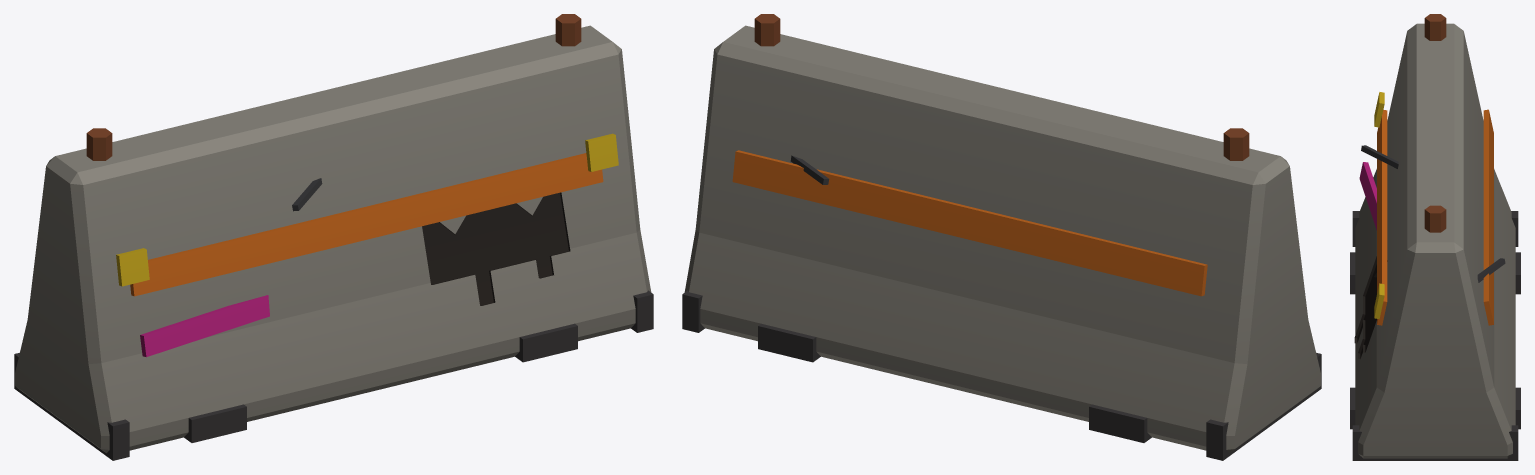
Rendered from c_barrier.glb.
3 renders of one model, left to right at view 1: azimuth 30°, elevation 25°; view 2: azimuth 150°, elevation 25°; view 3: azimuth 270°, elevation 25°, orthographic. The views are drawn at different scales.
Parts seen in each view (by area): view 1: c_barrier; view 2: c_barrier; view 3: c_barrier.
Part boxes in pixels (left/top/right/bottom): c_barrier: left=14, top=14, right=653, bottom=460; c_barrier: left=682, top=14, right=1321, bottom=460; c_barrier: left=1350, top=14, right=1520, bottom=460.
Size of the model in its own units: 2 by 0.98 by 0.64.
